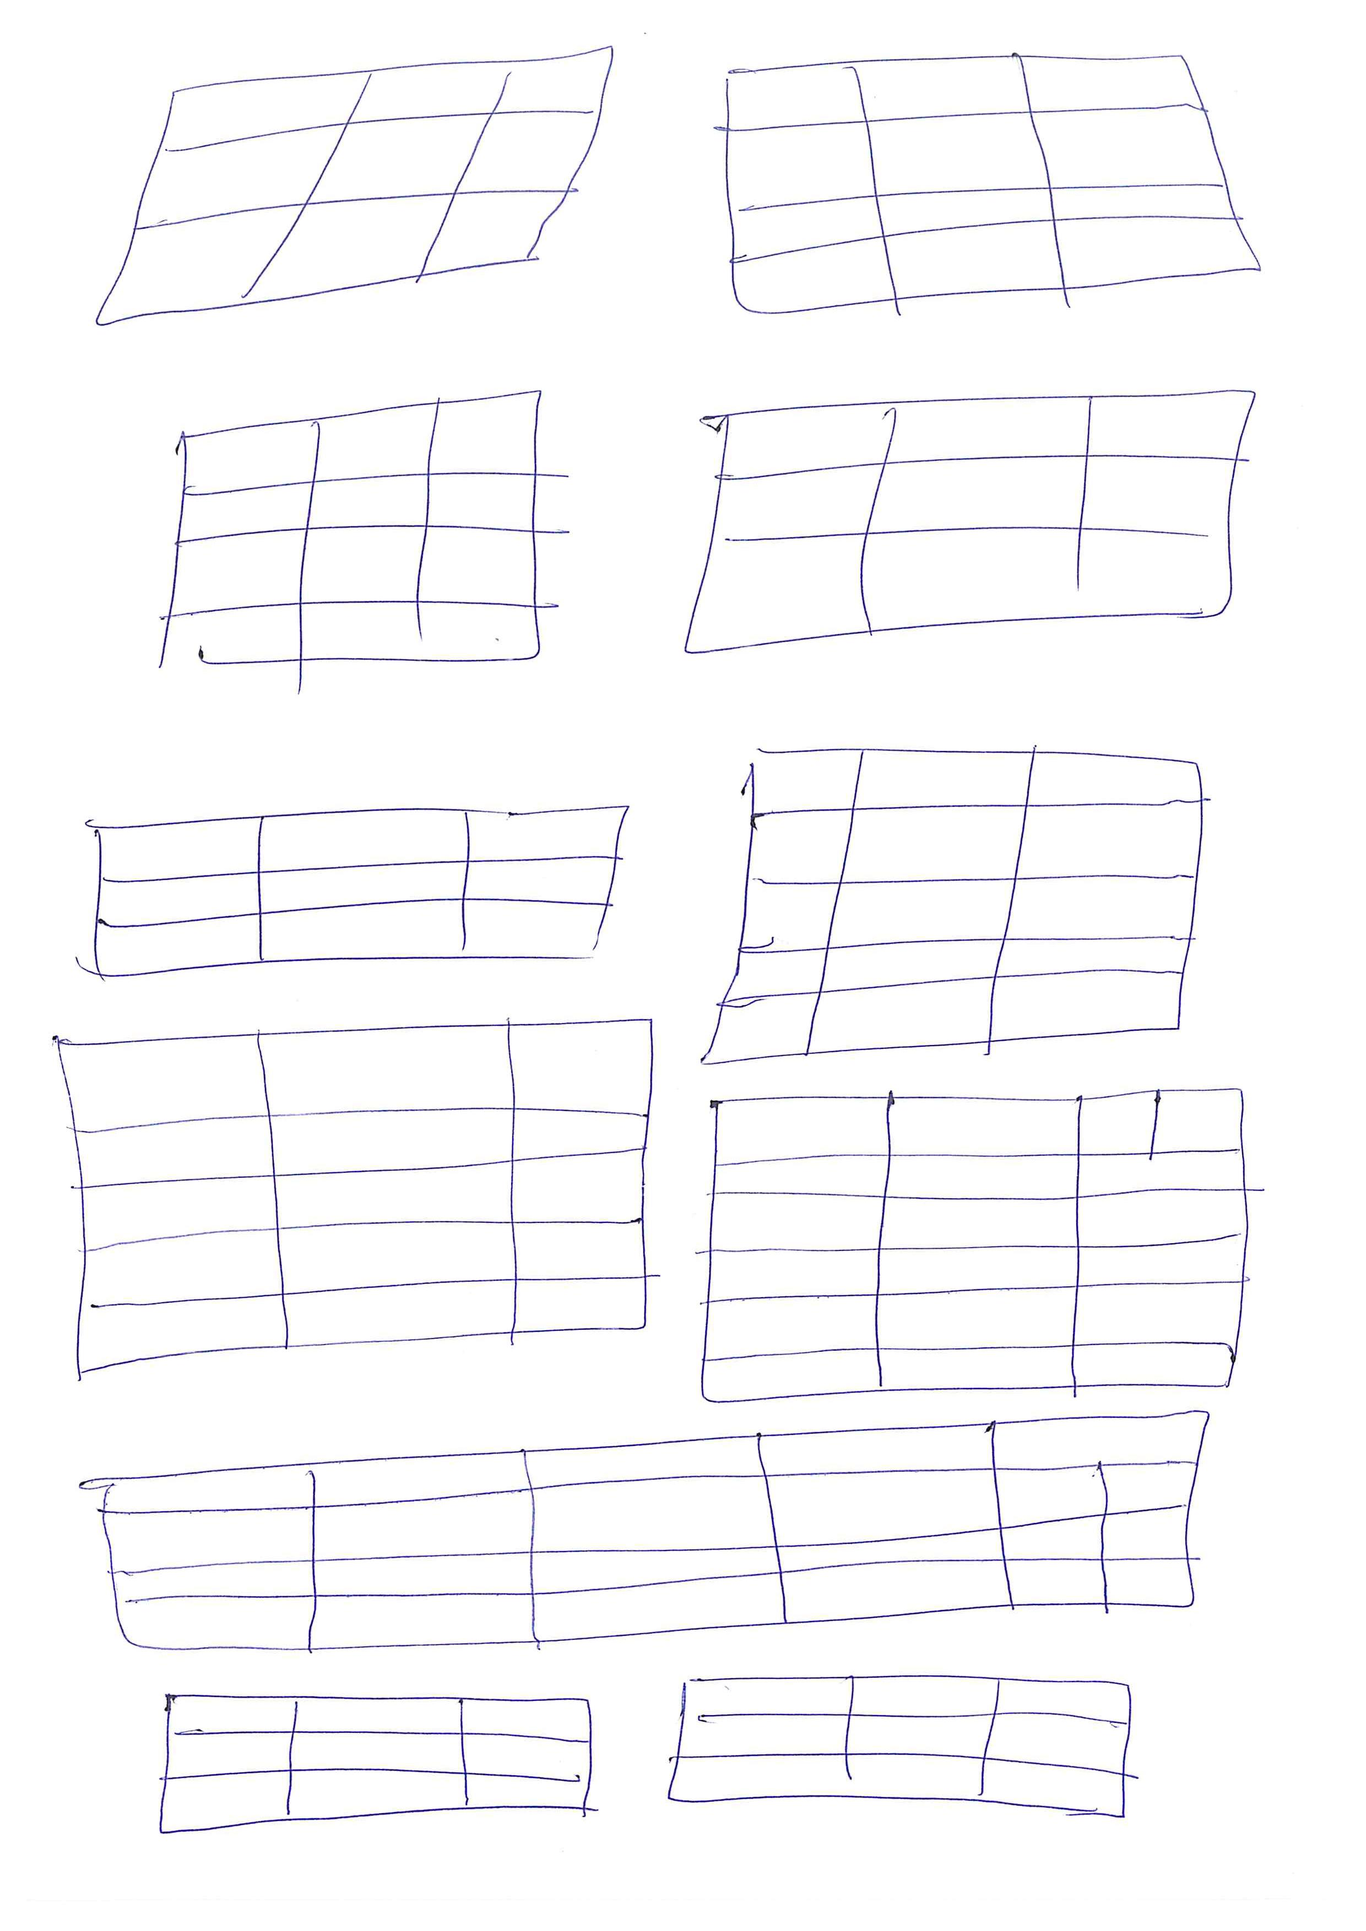Image: (89, 1400, 1215, 1665), (50, 1011, 656, 1379), (701, 1082, 1254, 1409), (683, 744, 1215, 1073), (677, 381, 1260, 665), (80, 38, 621, 336), (716, 47, 1268, 319), (152, 381, 553, 682), (80, 794, 633, 988), (658, 1669, 1141, 1813), (152, 1691, 602, 1844)
